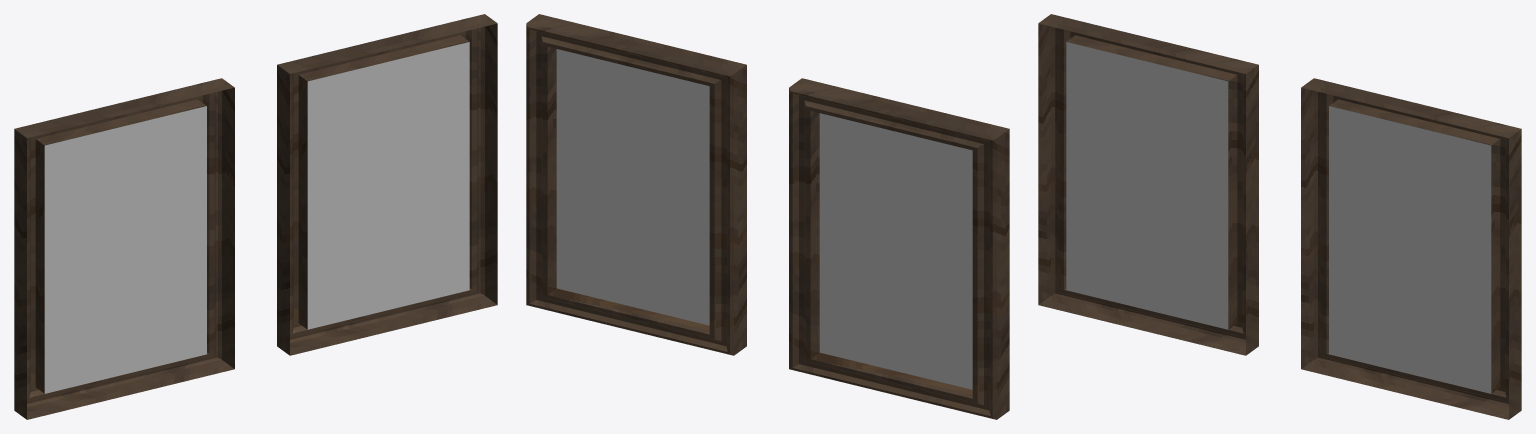
The model's file is Картины.fbx.
3 views of the same model, side by side, from view 1: azimuth 30°, elevation 25°; view 2: azimuth 150°, elevation 25°; view 3: azimuth 330°, elevation 25° (orthographic).
Parts seen in each view (by area): view 1: Cube.013, Cube.012, Cube.011, Cube; view 2: Cube.013, Cube.012, Cube.011, Cube; view 3: Cube.012, Cube.013, Cube, Cube.011.
Boxes of the visible parts, box(x1,y1,x2,y2) form: Cube.013: box(307, 42, 469, 329); Cube.012: box(44, 106, 206, 393); Cube.011: box(277, 14, 497, 355); Cube: box(14, 78, 234, 419); Cube.013: box(556, 49, 709, 325); Cube.012: box(819, 113, 972, 389); Cube.011: box(526, 14, 746, 355); Cube: box(789, 78, 1009, 419); Cube.012: box(1066, 42, 1228, 329); Cube.013: box(1329, 106, 1491, 393); Cube: box(1038, 14, 1258, 355); Cube.011: box(1301, 78, 1521, 419).
Size of the model in its own units: 53.71 by 30.71 by 2.82.
